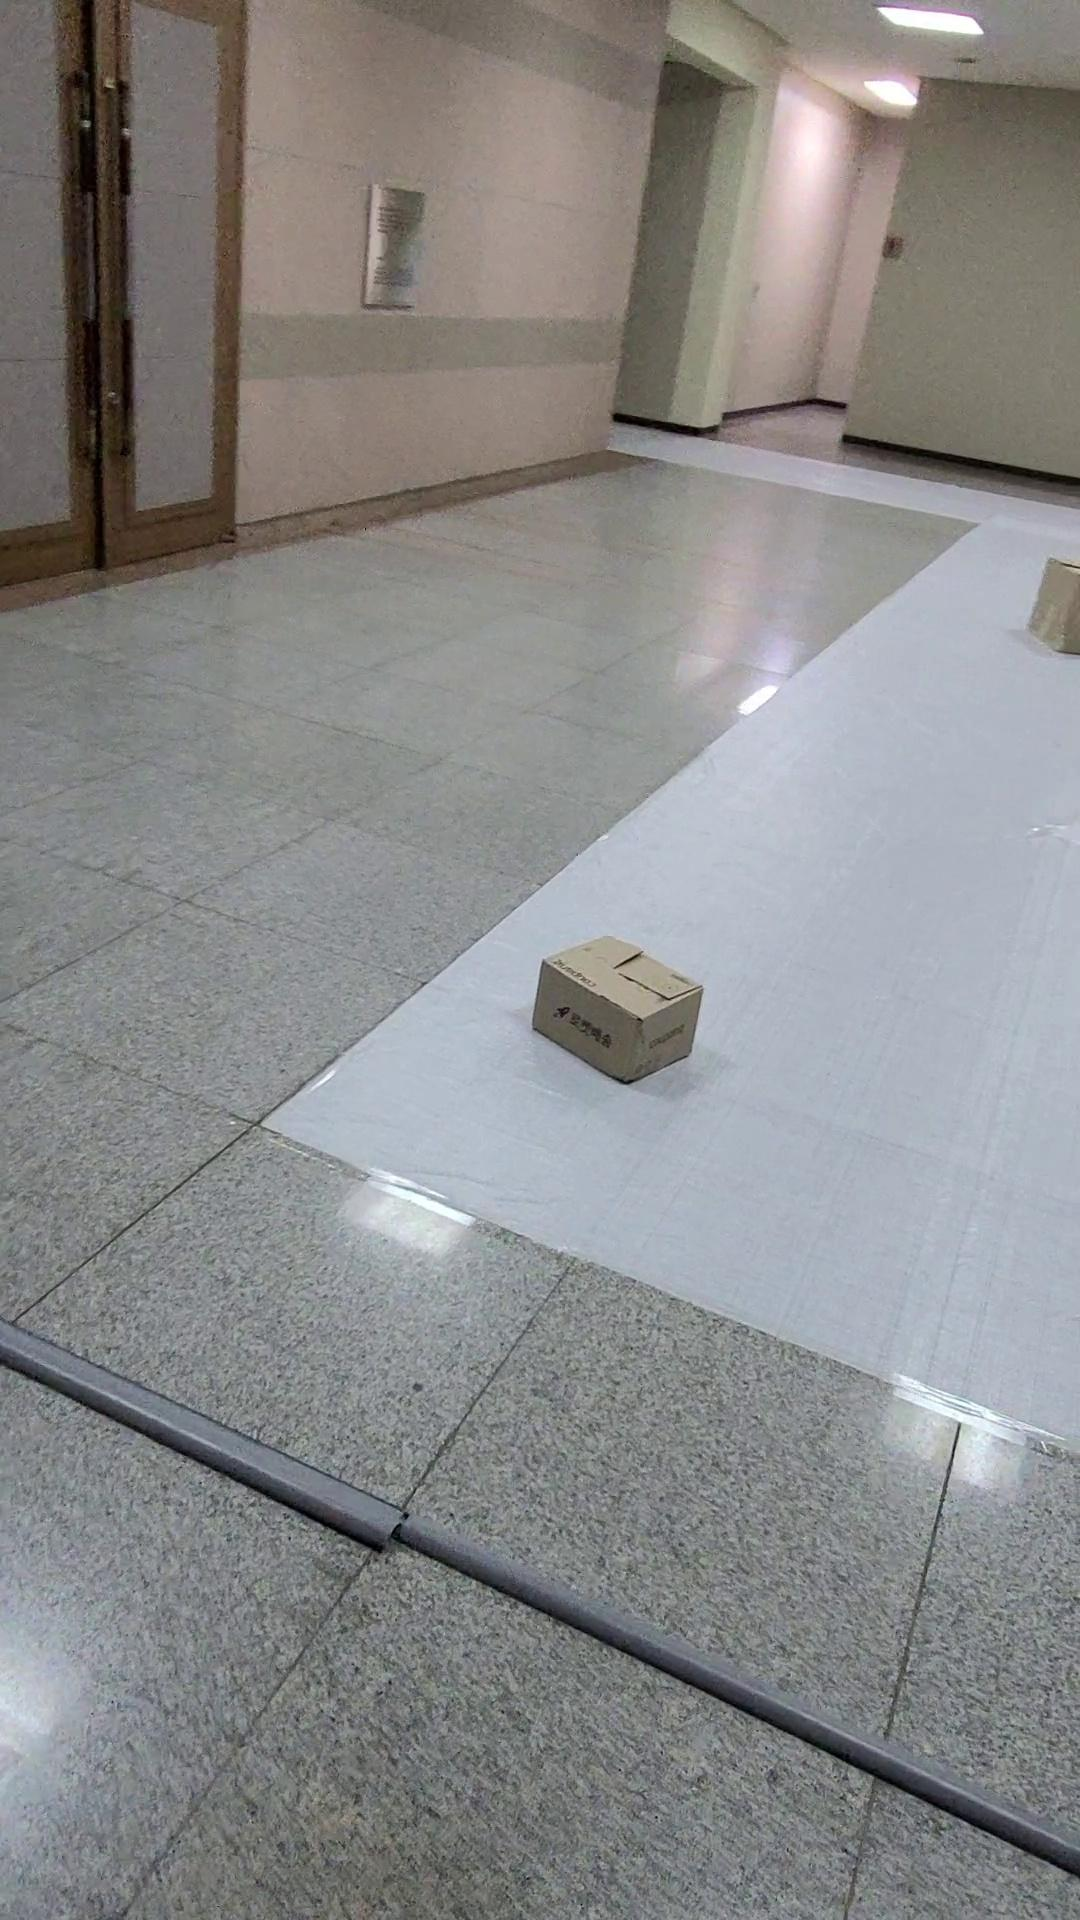Box: (488, 870, 760, 1127), (1023, 530, 1080, 712)
